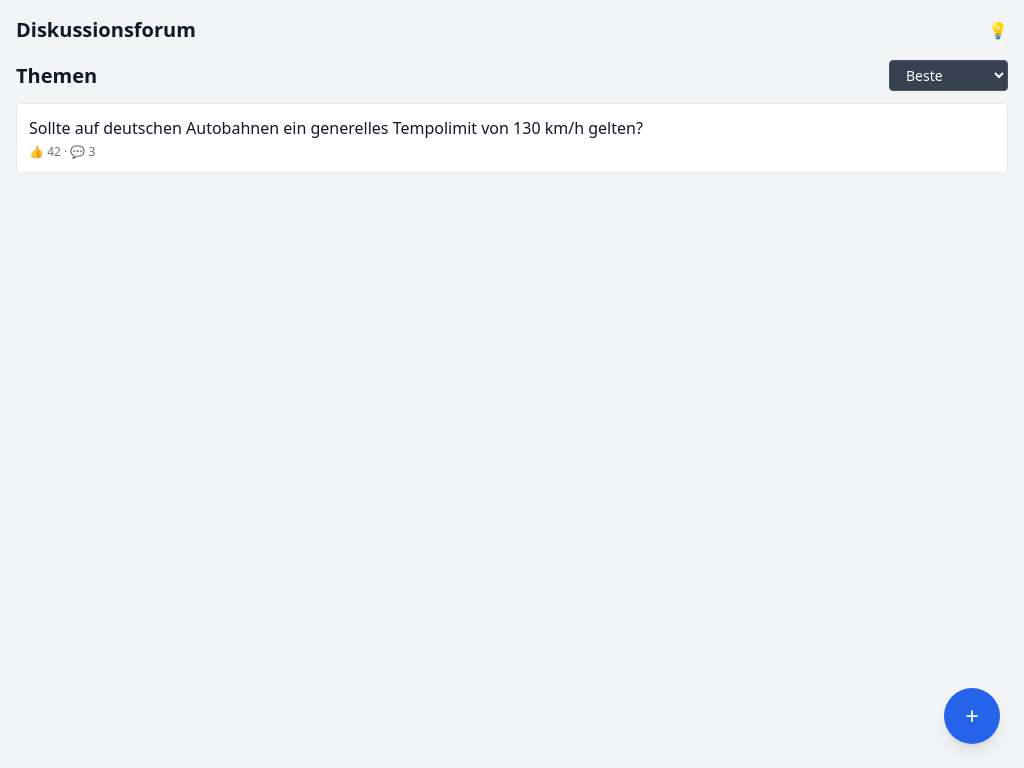
Test: ForumThread › embedded without a nodeId › requires login before opening the new-thema form
expect the heading "Themen" is shown: met, box [16, 62, 97, 90]
Click the button named "Neues Thema erstellen" at (972, 716), box [944, 688, 1000, 744]
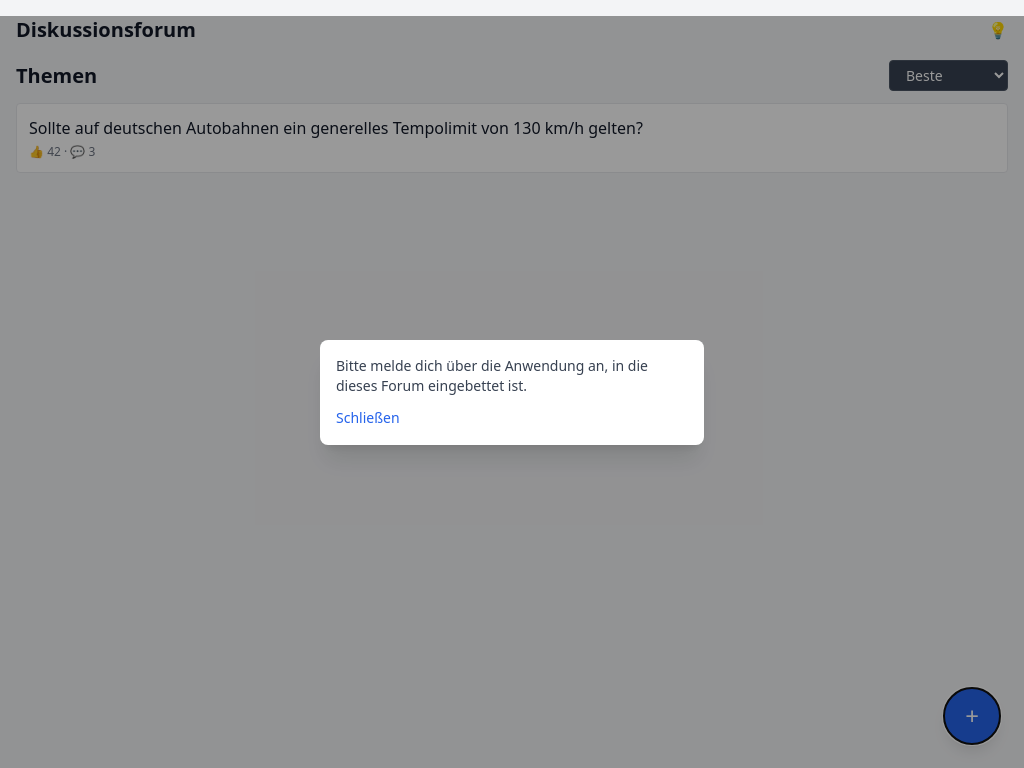
expect the number of dialogs is 1: met
